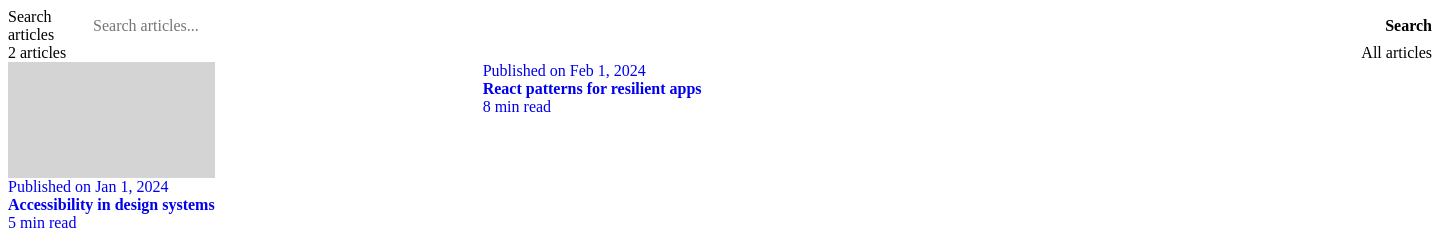
Test case: BlogSearch › shows the empty state when no results match
Type "zzzz" into the search field labelled "Search articles".
click(739, 26); type("zzzz")  # box [93,17,1385,35]
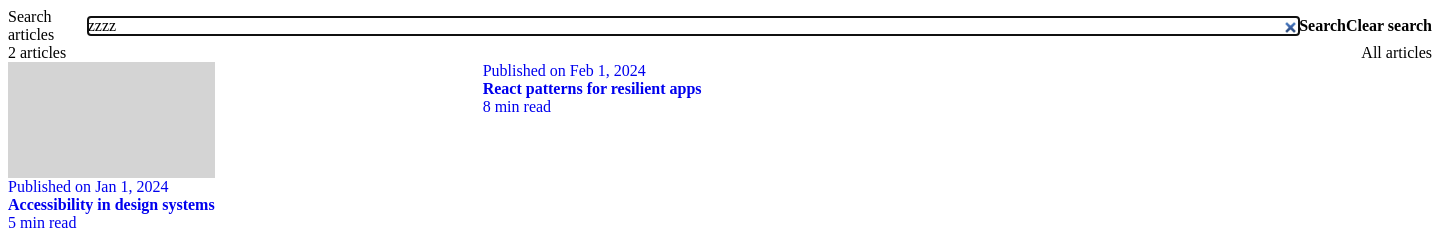
Click the button "Search".
click(1322, 26)  # box [1299,17,1346,35]
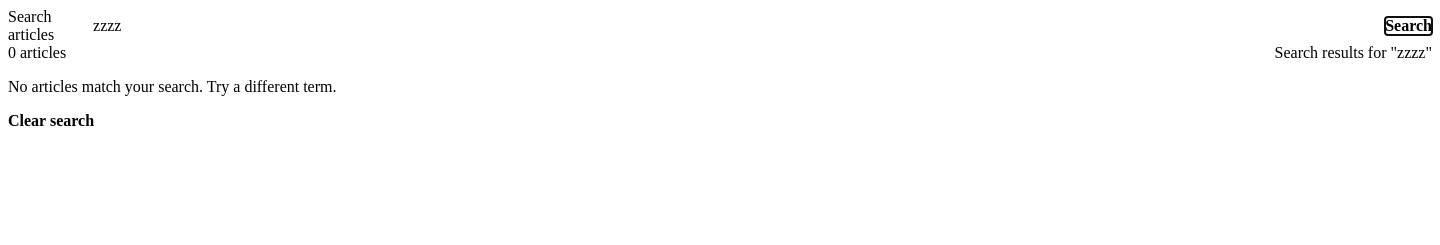
Expected: the number of messages is 1, [8,44,1432,62]
Now the text "0 articles" is shown, box [8,44,66,62]
Now the text "No articles match your search. Try a different term." is shown, box [8,78,336,95]
